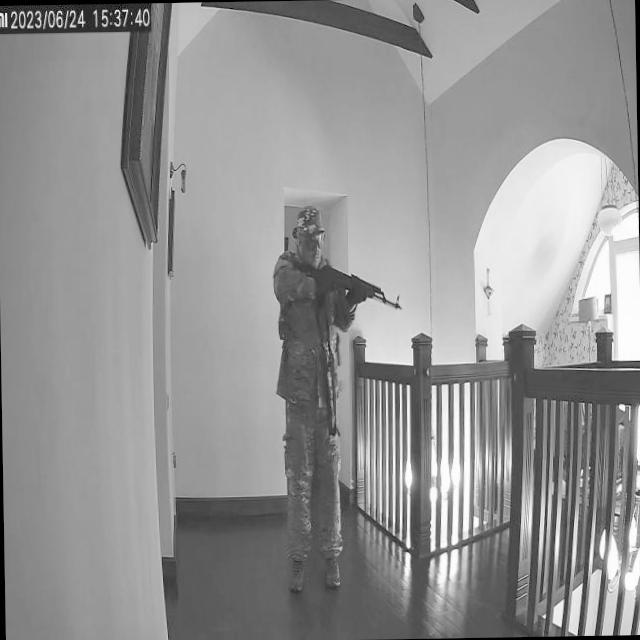gun: (293, 252, 406, 331)
person with a gun: (276, 201, 414, 592)
